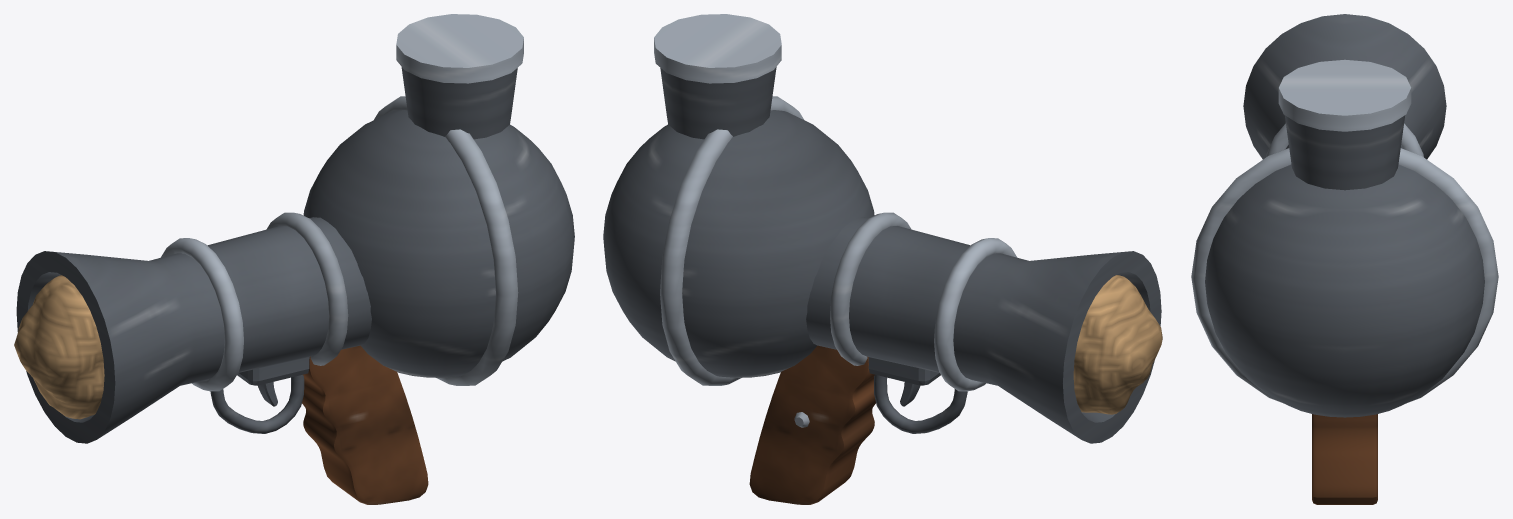
Rendered from Beanbag.fbx.
The picture shows the model from 3 angles, left to right: view 1: azimuth 30°, elevation 25°; view 2: azimuth 150°, elevation 25°; view 3: azimuth 270°, elevation 25°; orthographic projection. The views are drawn at different scales.
Visible parts, largest first — view 1: Beanbag; view 2: Beanbag; view 3: Beanbag.
Part boxes in pixels (x1,y1,x2,y2): Beanbag: [14, 14, 574, 504]; Beanbag: [603, 14, 1162, 504]; Beanbag: [1191, 14, 1498, 504].
Bounding box in the file's own units: 0.7111 × 0.5567 × 0.348.
Materials: 4 (4 with a texture image).
